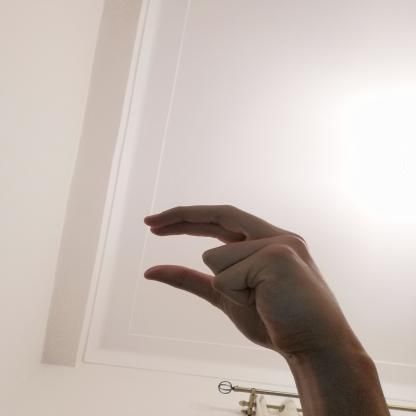DHELL: (130, 194, 366, 366)
